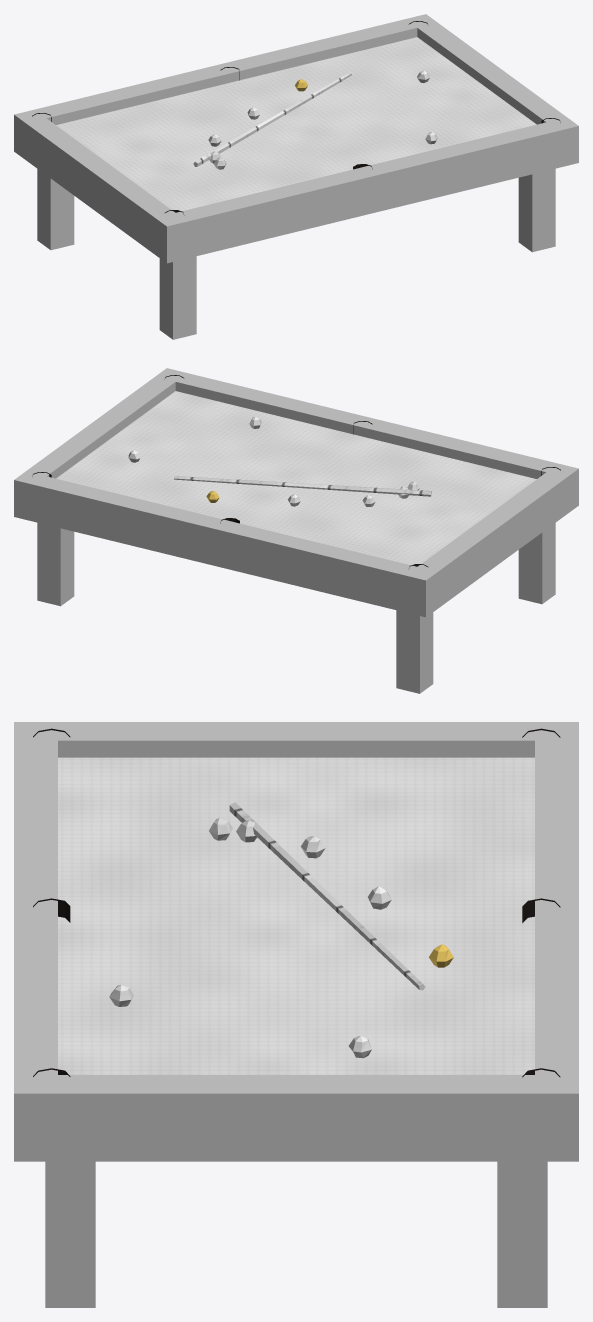
File: billiards_table.obj
The picture shows the model from 3 angles, top to bottom: view 1: azimuth 30°, elevation 25°; view 2: azimuth 150°, elevation 25°; view 3: azimuth 270°, elevation 25°; orthographic projection. The views are drawn at different scales.
Parts seen in each view (by area): view 1: billiards_table; view 2: billiards_table; view 3: billiards_table.
Part boxes in pixels (<box>): billiards_table: <box>14,14,578,339</box>; billiards_table: <box>14,368,578,693</box>; billiards_table: <box>14,722,578,1307</box>.
Bounding box in the file's own units: 2.8 × 0.8114 × 1.8.
